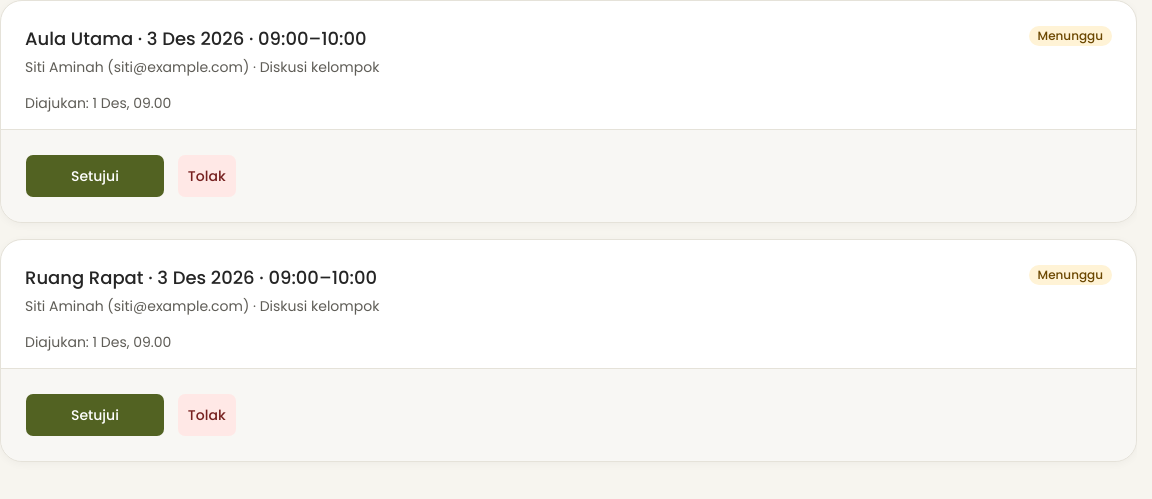
Scenario: ReservationQueue proses dan konflik (RES-06) › menampilkan pesan gagal di kartu item yang diklik
Expected: the text "Ruang Rapat · 3 Des 2026 · 09:00–10:00" is shown, [25,265,377,290]
Click the button "Setujui" below "Ruang Rapat": {"x": 95, "y": 415} [25,393,165,437]
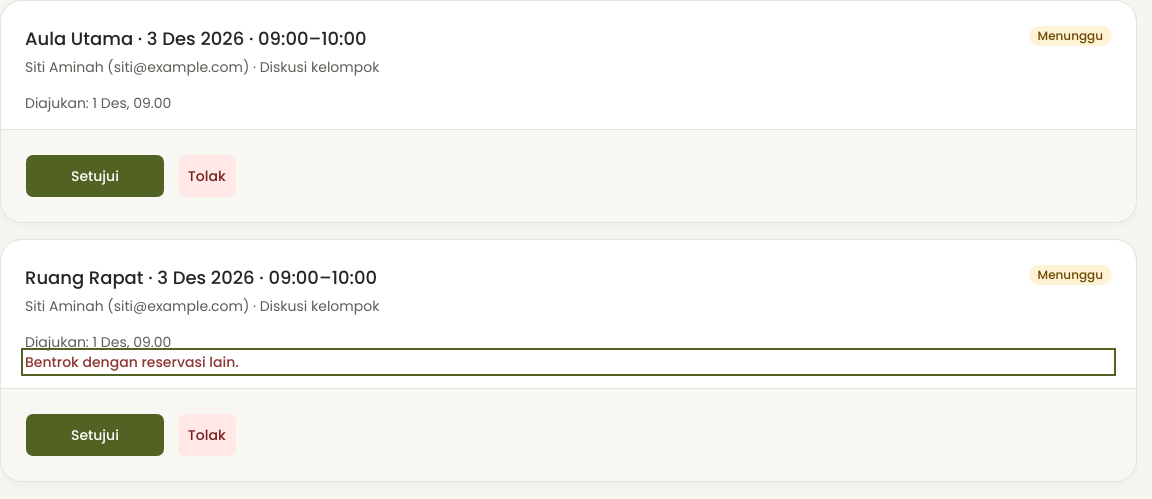
Expected: the element that starts with "Ruang Rapat" does not show "Aula Utama", [0,239,1137,482]
Now the message reads "Bentrok dengan reservasi lain.", box [25,352,239,372]
